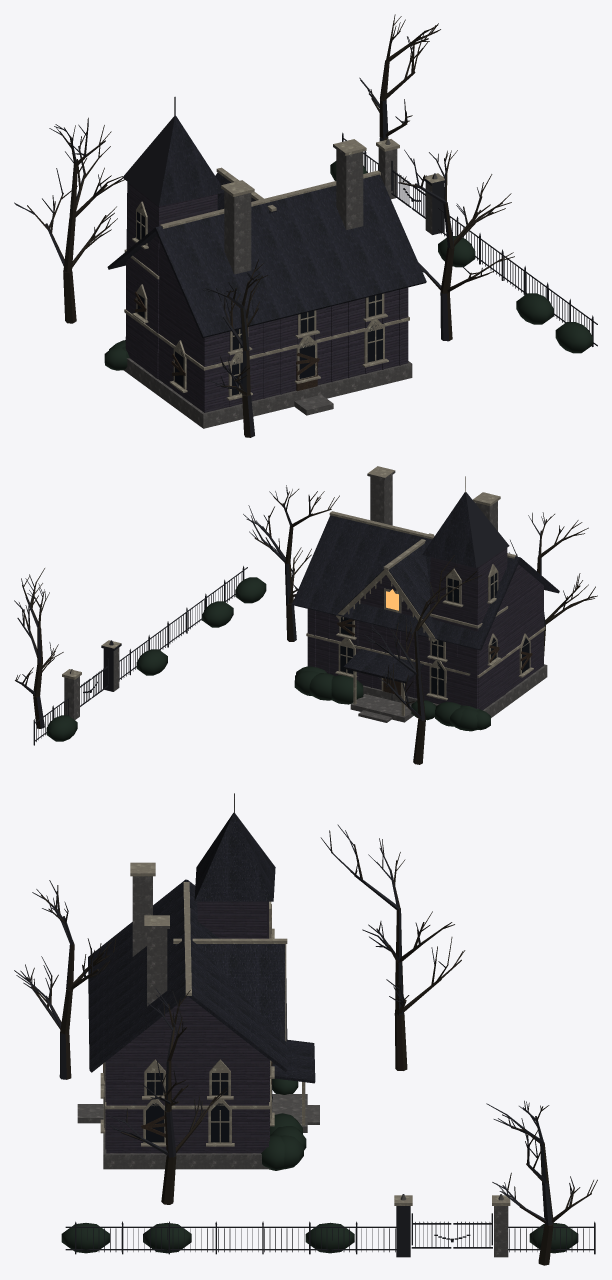
File: last_house_ext.glb
3 views of the same model, one above another, from view 1: azimuth 30°, elevation 25°; view 2: azimuth 150°, elevation 25°; view 3: azimuth 270°, elevation 25° (orthographic). The views are drawn at different scales.
Parts seen in each view (by area): view 1: geo_last_house, geo_last_house_grounds; view 2: geo_last_house, geo_last_house_grounds; view 3: geo_last_house, geo_last_house_grounds.
Part boxes in pixels (x1,y1,x2,y2): geo_last_house: [107, 96, 426, 428]; geo_last_house_grounds: [14, 14, 597, 437]; geo_last_house: [292, 466, 559, 722]; geo_last_house_grounds: [14, 485, 597, 764]; geo_last_house: [77, 793, 319, 1169]; geo_last_house_grounds: [14, 824, 597, 1265].
Size of the model in its own units: 27.03 by 15.9 by 28.69.
10 materials, 5 textured.
